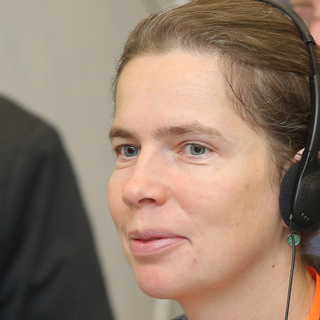eye: (173, 138, 221, 163), (106, 138, 148, 164)
